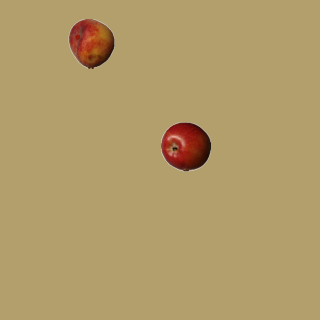Apple Braeburn: (160, 121, 210, 171)
Peach: (66, 18, 116, 68)
